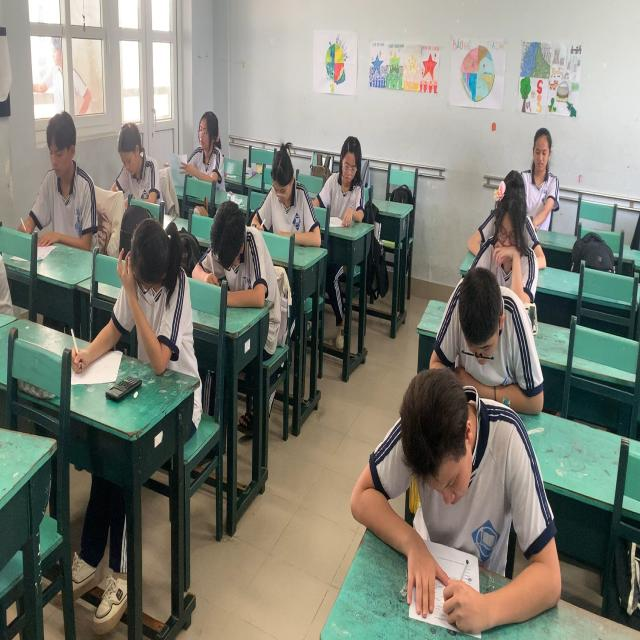not_cheating: (377, 358, 527, 606), (110, 216, 174, 372), (37, 109, 91, 250), (441, 261, 507, 374), (200, 194, 256, 284), (262, 146, 309, 229), (331, 130, 367, 222), (188, 112, 224, 198), (480, 206, 527, 270), (107, 126, 153, 178), (532, 136, 552, 192)
